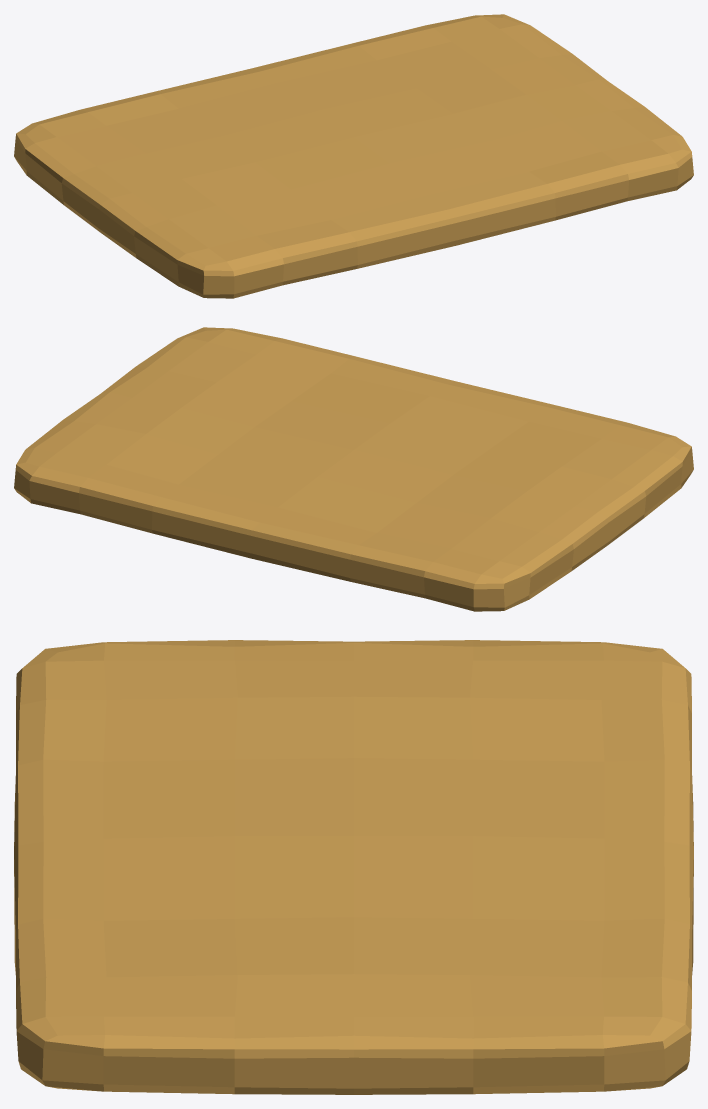
Rendered from Krakers.fbx.
3 views of the same model, one above another, from view 1: azimuth 30°, elevation 25°; view 2: azimuth 150°, elevation 25°; view 3: azimuth 270°, elevation 25° (orthographic). The views are drawn at different scales.
Visible parts, largest first — view 1: Krakers; view 2: Krakers; view 3: Krakers.
Boxes of the visible parts, x1,y1,x2,y2 form: Krakers: (14, 14, 693, 298); Krakers: (14, 327, 693, 611); Krakers: (14, 640, 693, 1094).
Size of the model in its own units: 288 by 21.12 by 201.
